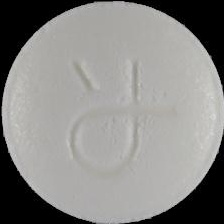76237-299: (0, 0, 224, 224)
